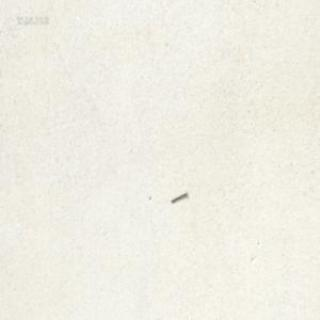Bolttrack_idkeyframe: (169, 188, 186, 201)
